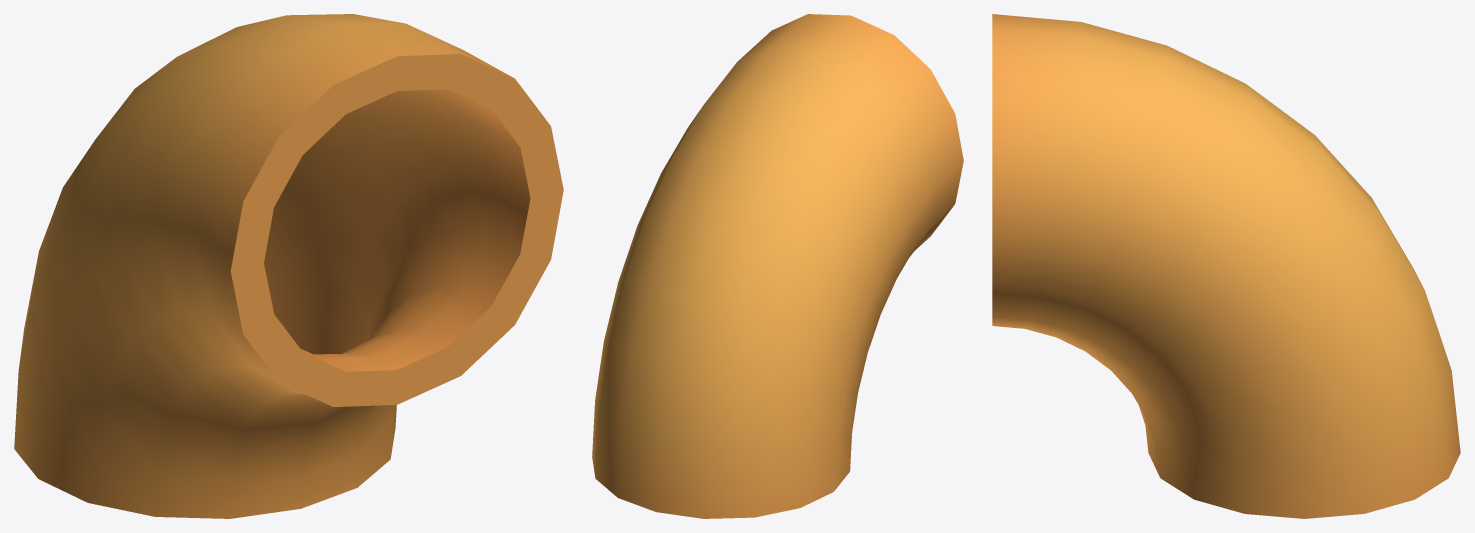
Rendered from pipe_90_A_yellow.glb.
3 views of the same model, side by side, from view 1: azimuth 30°, elevation 25°; view 2: azimuth 150°, elevation 25°; view 3: azimuth 270°, elevation 25° (orthographic). The views are drawn at different scales.
Visible parts, largest first — view 1: pipe_90_A_yellow; view 2: pipe_90_A_yellow; view 3: pipe_90_A_yellow.
Part boxes in pixels (box(x1,y1,x2,y2)): pipe_90_A_yellow: box(14, 14, 563, 518); pipe_90_A_yellow: box(592, 14, 963, 518); pipe_90_A_yellow: box(992, 14, 1460, 518).
Size of the model in its own units: 2 by 3 by 3.
Materials: 1 (1 with a texture image).
